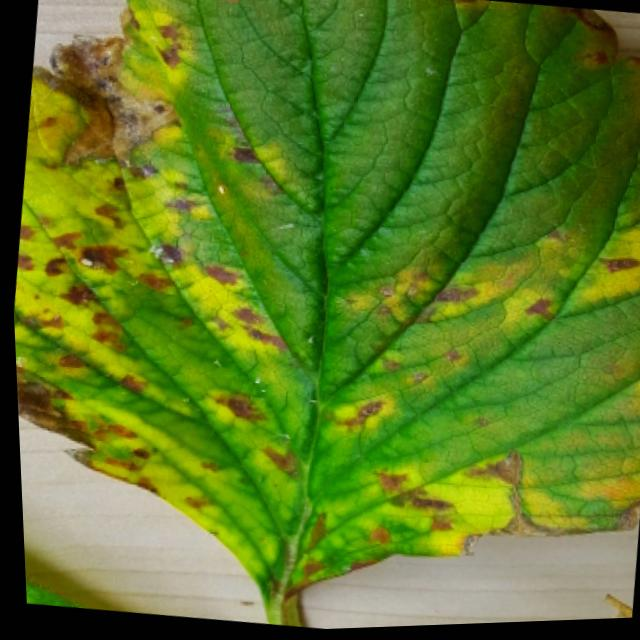Angular Leafspot: (10, 0, 640, 611)
